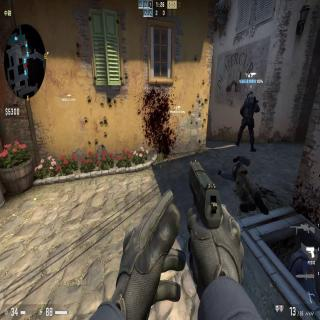CT-Body: (236, 90, 260, 153)
CT-Head: (246, 90, 254, 98)
